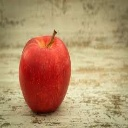apple: (17, 30, 73, 115)
